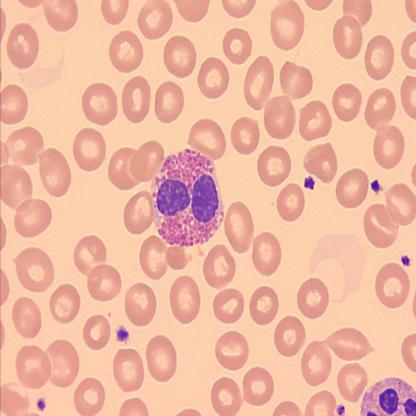Eosinophil: (149, 147, 225, 249)
